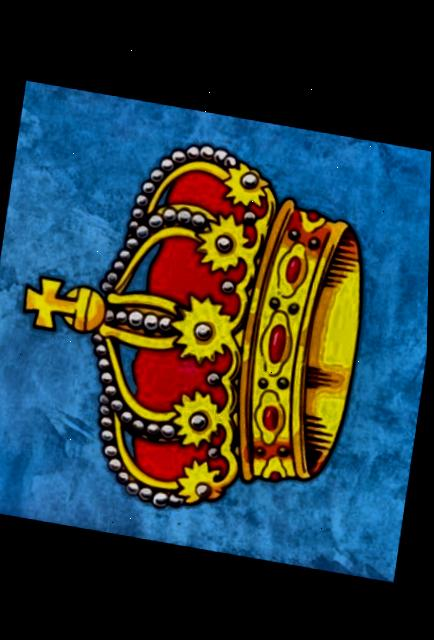La Corona: (0, 81, 433, 580)
